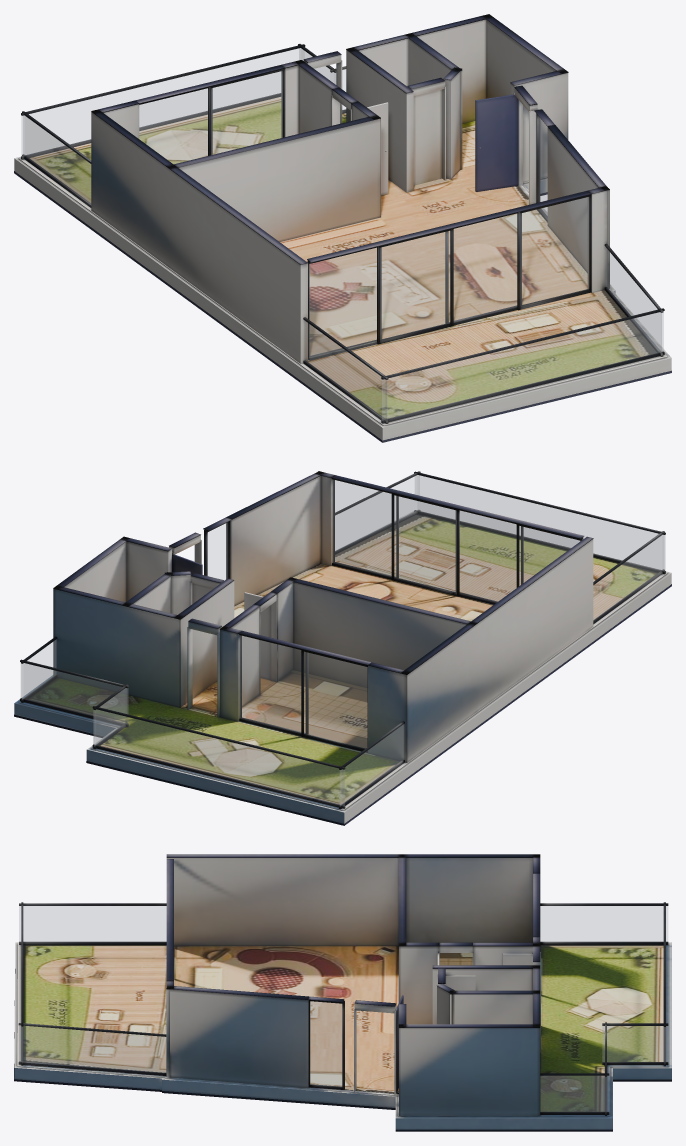
3 views of the same model, one above another, from view 1: azimuth 30°, elevation 25°; view 2: azimuth 150°, elevation 25°; view 3: azimuth 270°, elevation 25° (orthographic). The views are drawn at different scales.
Visible parts, largest first — view 1: plan, glass1_m, railg2_m, glass0_m, railg0_m, railg6_m, railg5_m, railg7_m, glass2_m; view 2: plan, glass1_m, glass0_m, railg0_m, railg2_m, railg1_m, railg7_m, railg6_m, railg5_m, railg3_m, railg4_m, glass2_m; view 3: plan, railg7_m, railg6_m, railg5_m, glass2_m, railg3_m, railg4_m.
Boxes of the visible parts, x1,y1,x2,y2 form: plan: [14, 14, 671, 442]; glass1_m: [309, 197, 588, 357]; railg2_m: [382, 311, 663, 420]; glass0_m: [139, 71, 282, 163]; railg0_m: [21, 48, 303, 156]; railg6_m: [304, 321, 387, 420]; railg5_m: [23, 116, 90, 203]; railg7_m: [606, 248, 661, 352]; glass2_m: [539, 117, 547, 216]; plan: [14, 471, 671, 825]; glass1_m: [333, 480, 579, 602]; glass0_m: [240, 635, 367, 748]; railg0_m: [93, 709, 344, 805]; railg2_m: [415, 475, 665, 570]; railg1_m: [21, 663, 128, 723]; railg7_m: [335, 475, 419, 550]; railg6_m: [593, 535, 663, 620]; railg5_m: [340, 724, 403, 805]; railg3_m: [22, 640, 56, 699]; railg4_m: [94, 688, 126, 746]; glass2_m: [208, 523, 227, 580]; plan: [14, 854, 671, 1131]; railg7_m: [19, 1025, 165, 1072]; railg6_m: [19, 906, 166, 941]; railg5_m: [540, 906, 667, 941]; glass2_m: [310, 1001, 341, 1086]; railg3_m: [540, 1076, 608, 1111]; railg4_m: [602, 1026, 667, 1061].
Bounding box in the file's own units: 9.63 × 2.62 × 15.21.
Materials: 2 (1 with a texture image).
